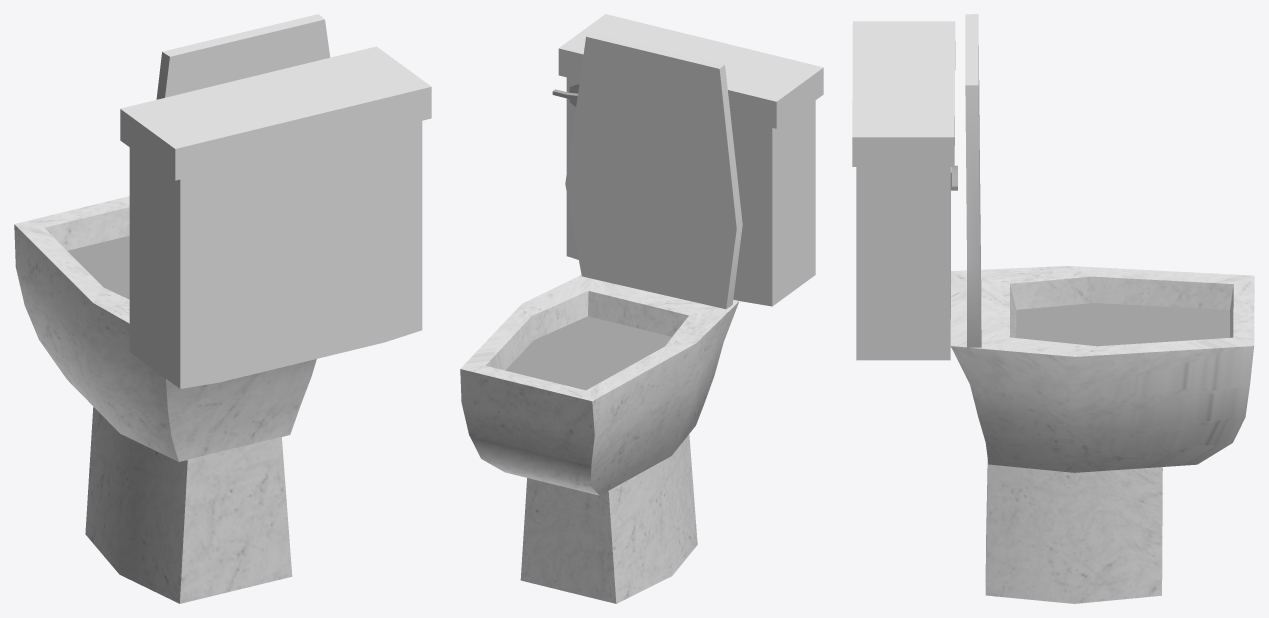
File: privada_finalizada 1.fbx
3 renders of one model, left to right at view 1: azimuth 30°, elevation 25°; view 2: azimuth 150°, elevation 25°; view 3: azimuth 270°, elevation 25°, orthographic. The views are drawn at different scales.
Visible parts, largest first — view 1: sanita; view 2: sanita; view 3: sanita.
Part boxes in pixels (bbox=[...]): sanita: bbox=[14, 14, 431, 603]; sanita: bbox=[460, 14, 823, 603]; sanita: bbox=[852, 14, 1254, 603].
Bounding box in the file's own units: 233 × 477 × 334.
Materials: 3 (1 with a texture image).
